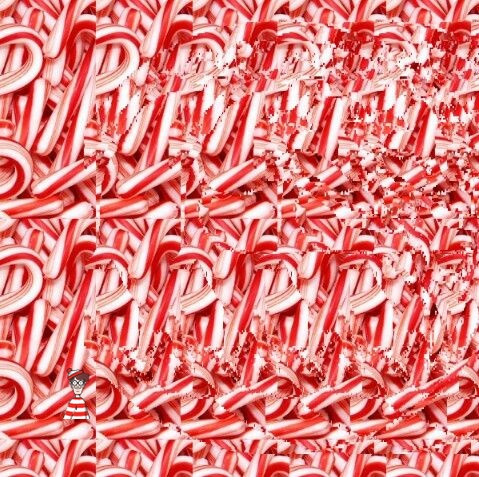waldo: (63, 368, 90, 419)
